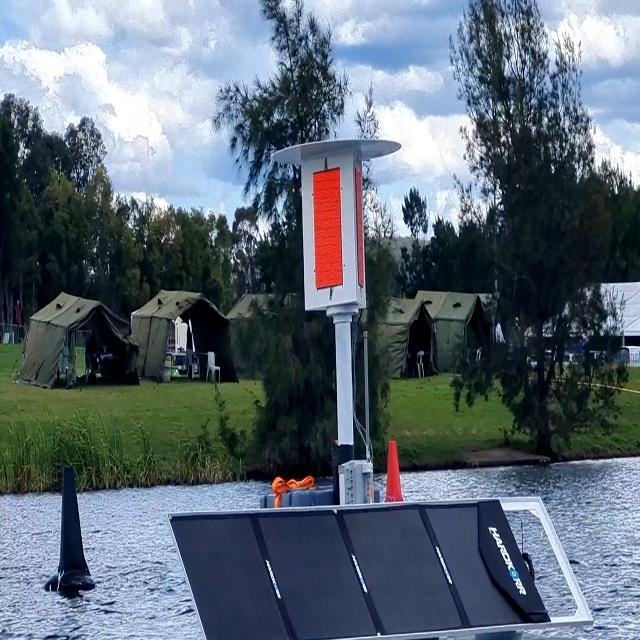led: (305, 158, 354, 296)
